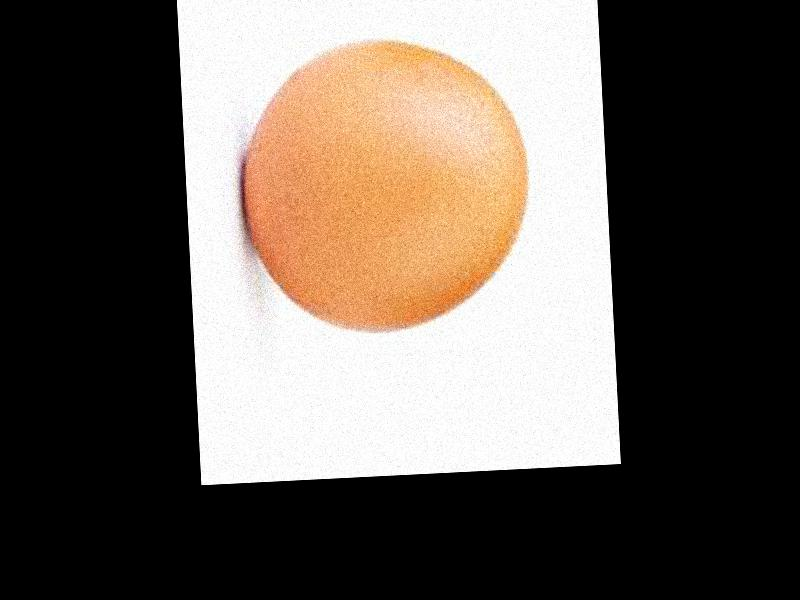Eggs: (238, 34, 531, 337)
